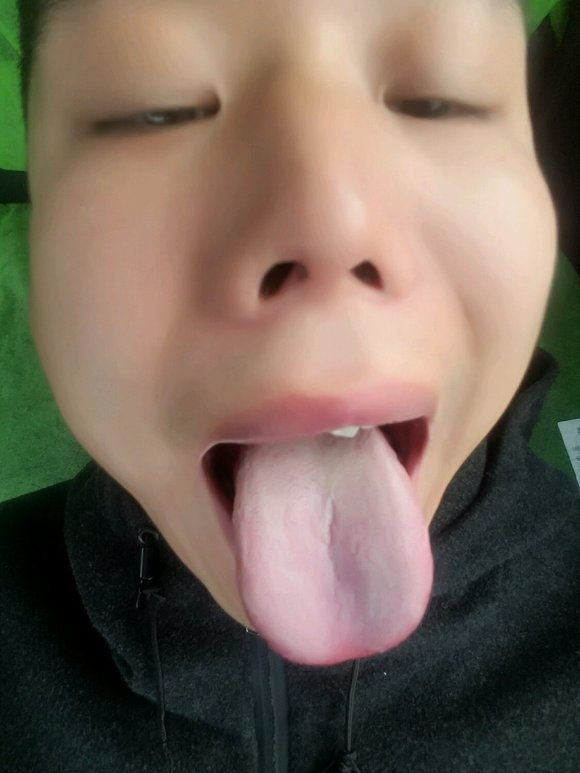baitaishe: (230, 428, 433, 665)
liewenshe: (323, 495, 344, 586)
